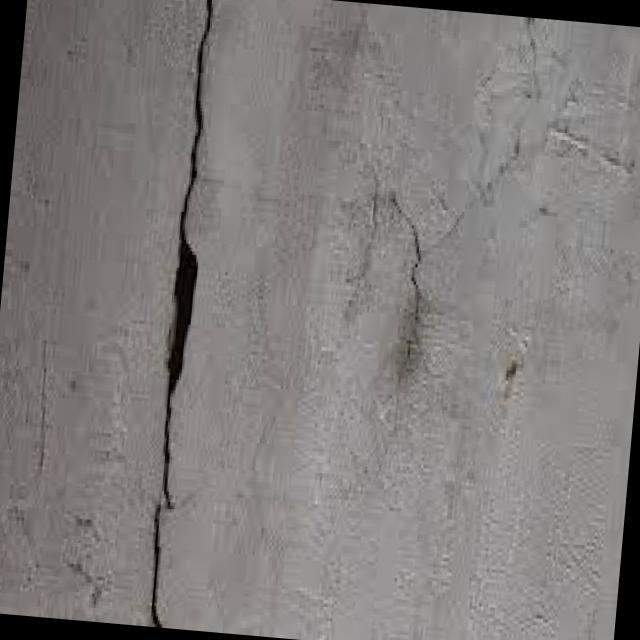crack: (143, 0, 226, 625)
